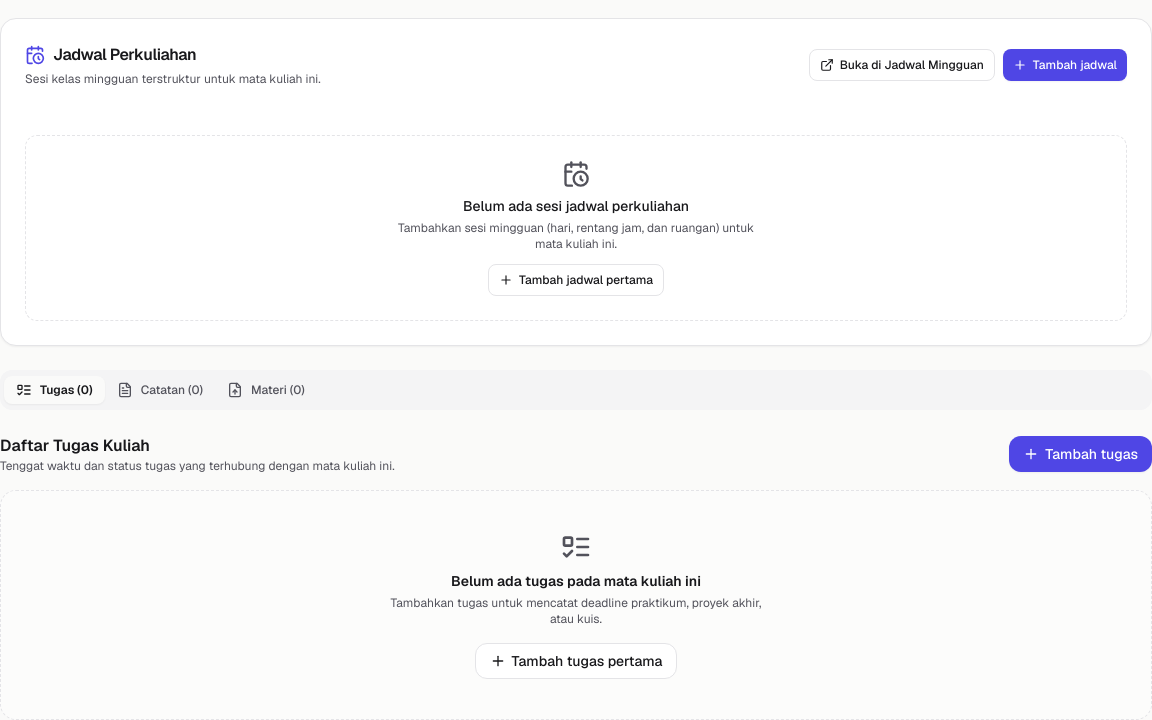
CourseDetailPage - Error States & Resilience Behavioral Tests › 8. Kegagalan API materi menampilkan error state pada tab Materi
This screenshot has width=1152, height=720.
(page scrolled)
# Buka tab Materi
What coordinates should you click on to do the following:
click the tab "Materi (0)"
I would click on:
 (266, 390)
Its box is [215,376,317,404].
(page scrolled)
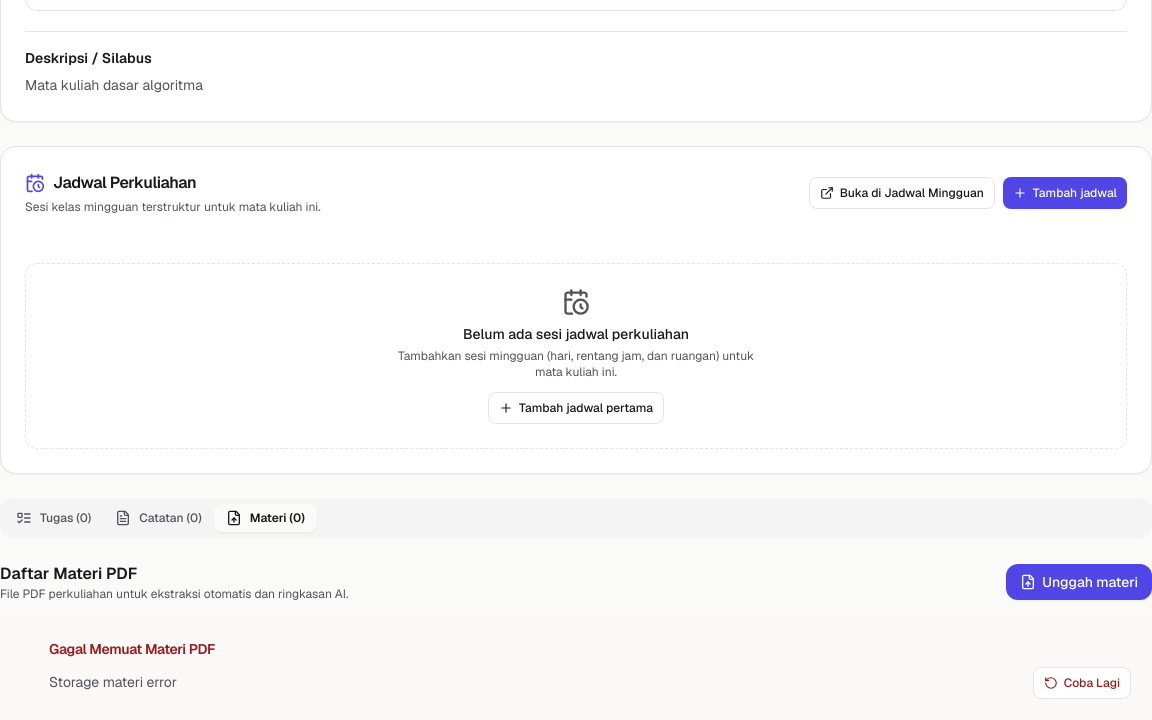
Expected: the message "Gagal Memuat Materi PDF Storage materi error Coba Lagi" is shown, [0,618,1151,719]
Expected: the heading "Gagal Memuat Materi PDF" is shown, [49,640,215,658]
Expected: the text "Storage materi error" is shown, [49,671,177,694]
